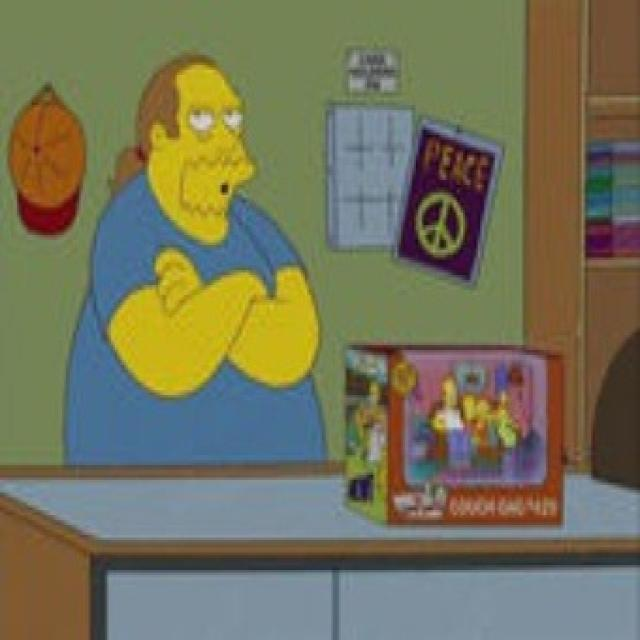Comic Book Guy: (120, 51, 256, 249)
